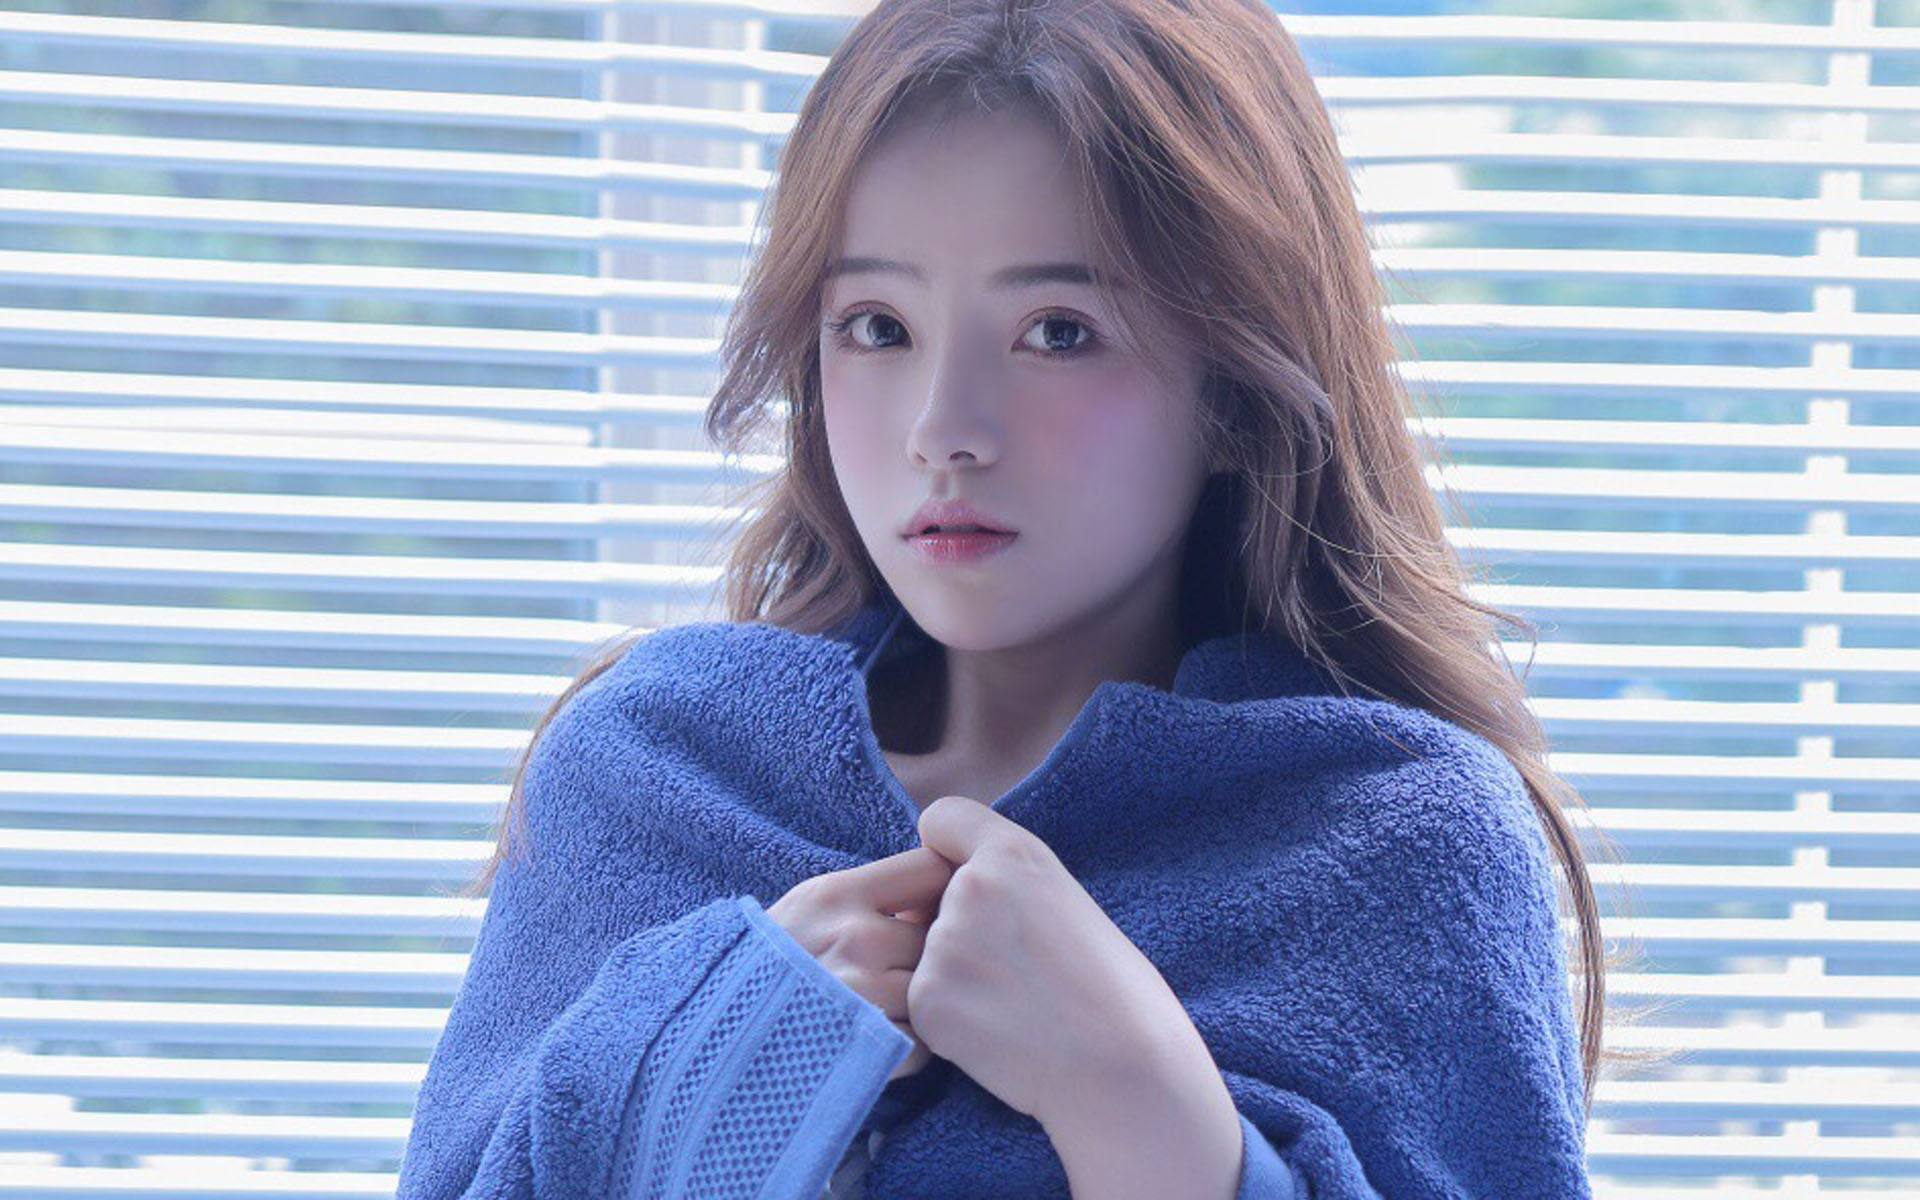person: (625, 1, 1679, 1114)
